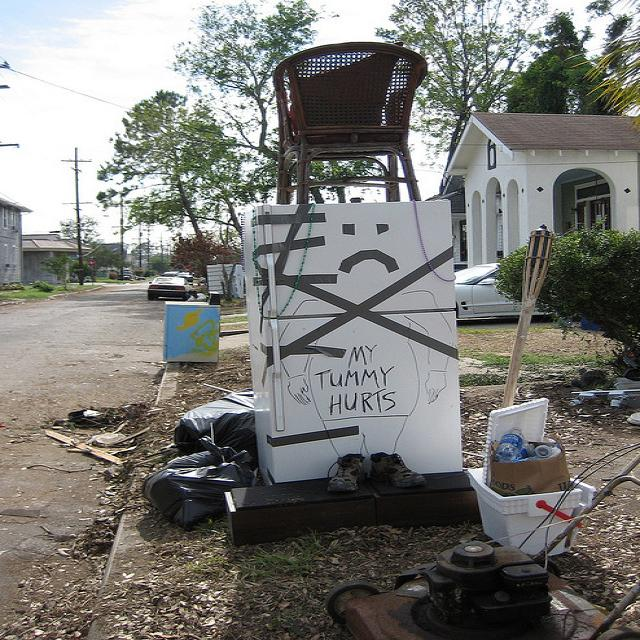Vehicle: (455, 262, 524, 320), (148, 277, 192, 300), (178, 271, 194, 284), (161, 270, 180, 277), (118, 275, 132, 279)
